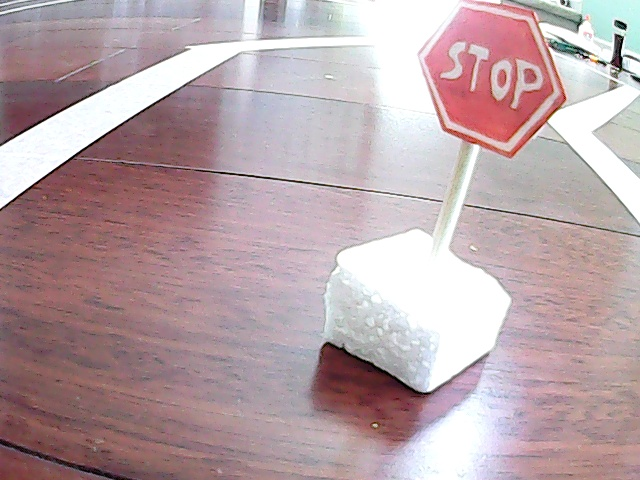stop: (375, 4, 570, 396)
